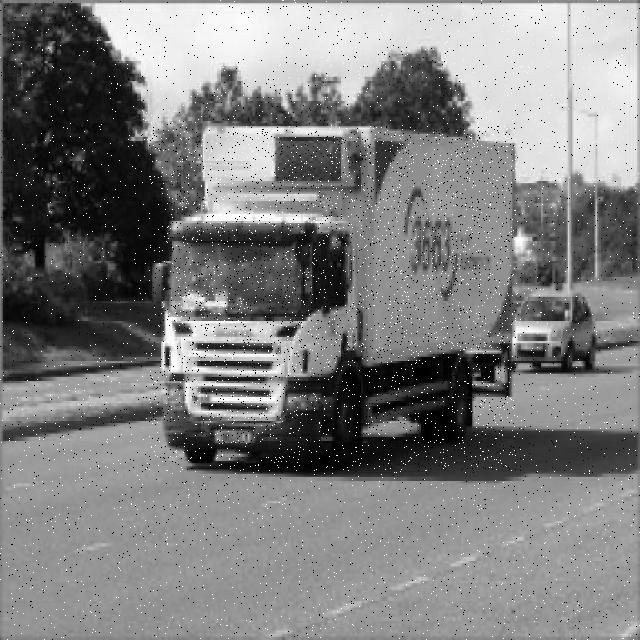Box Truck: (149, 126, 516, 471)
